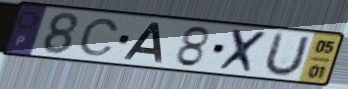8: (41, 11, 81, 56), (175, 25, 212, 68)
A: (121, 21, 165, 65)
C: (76, 17, 122, 57)
U: (260, 30, 313, 78)
X: (216, 27, 272, 76)
